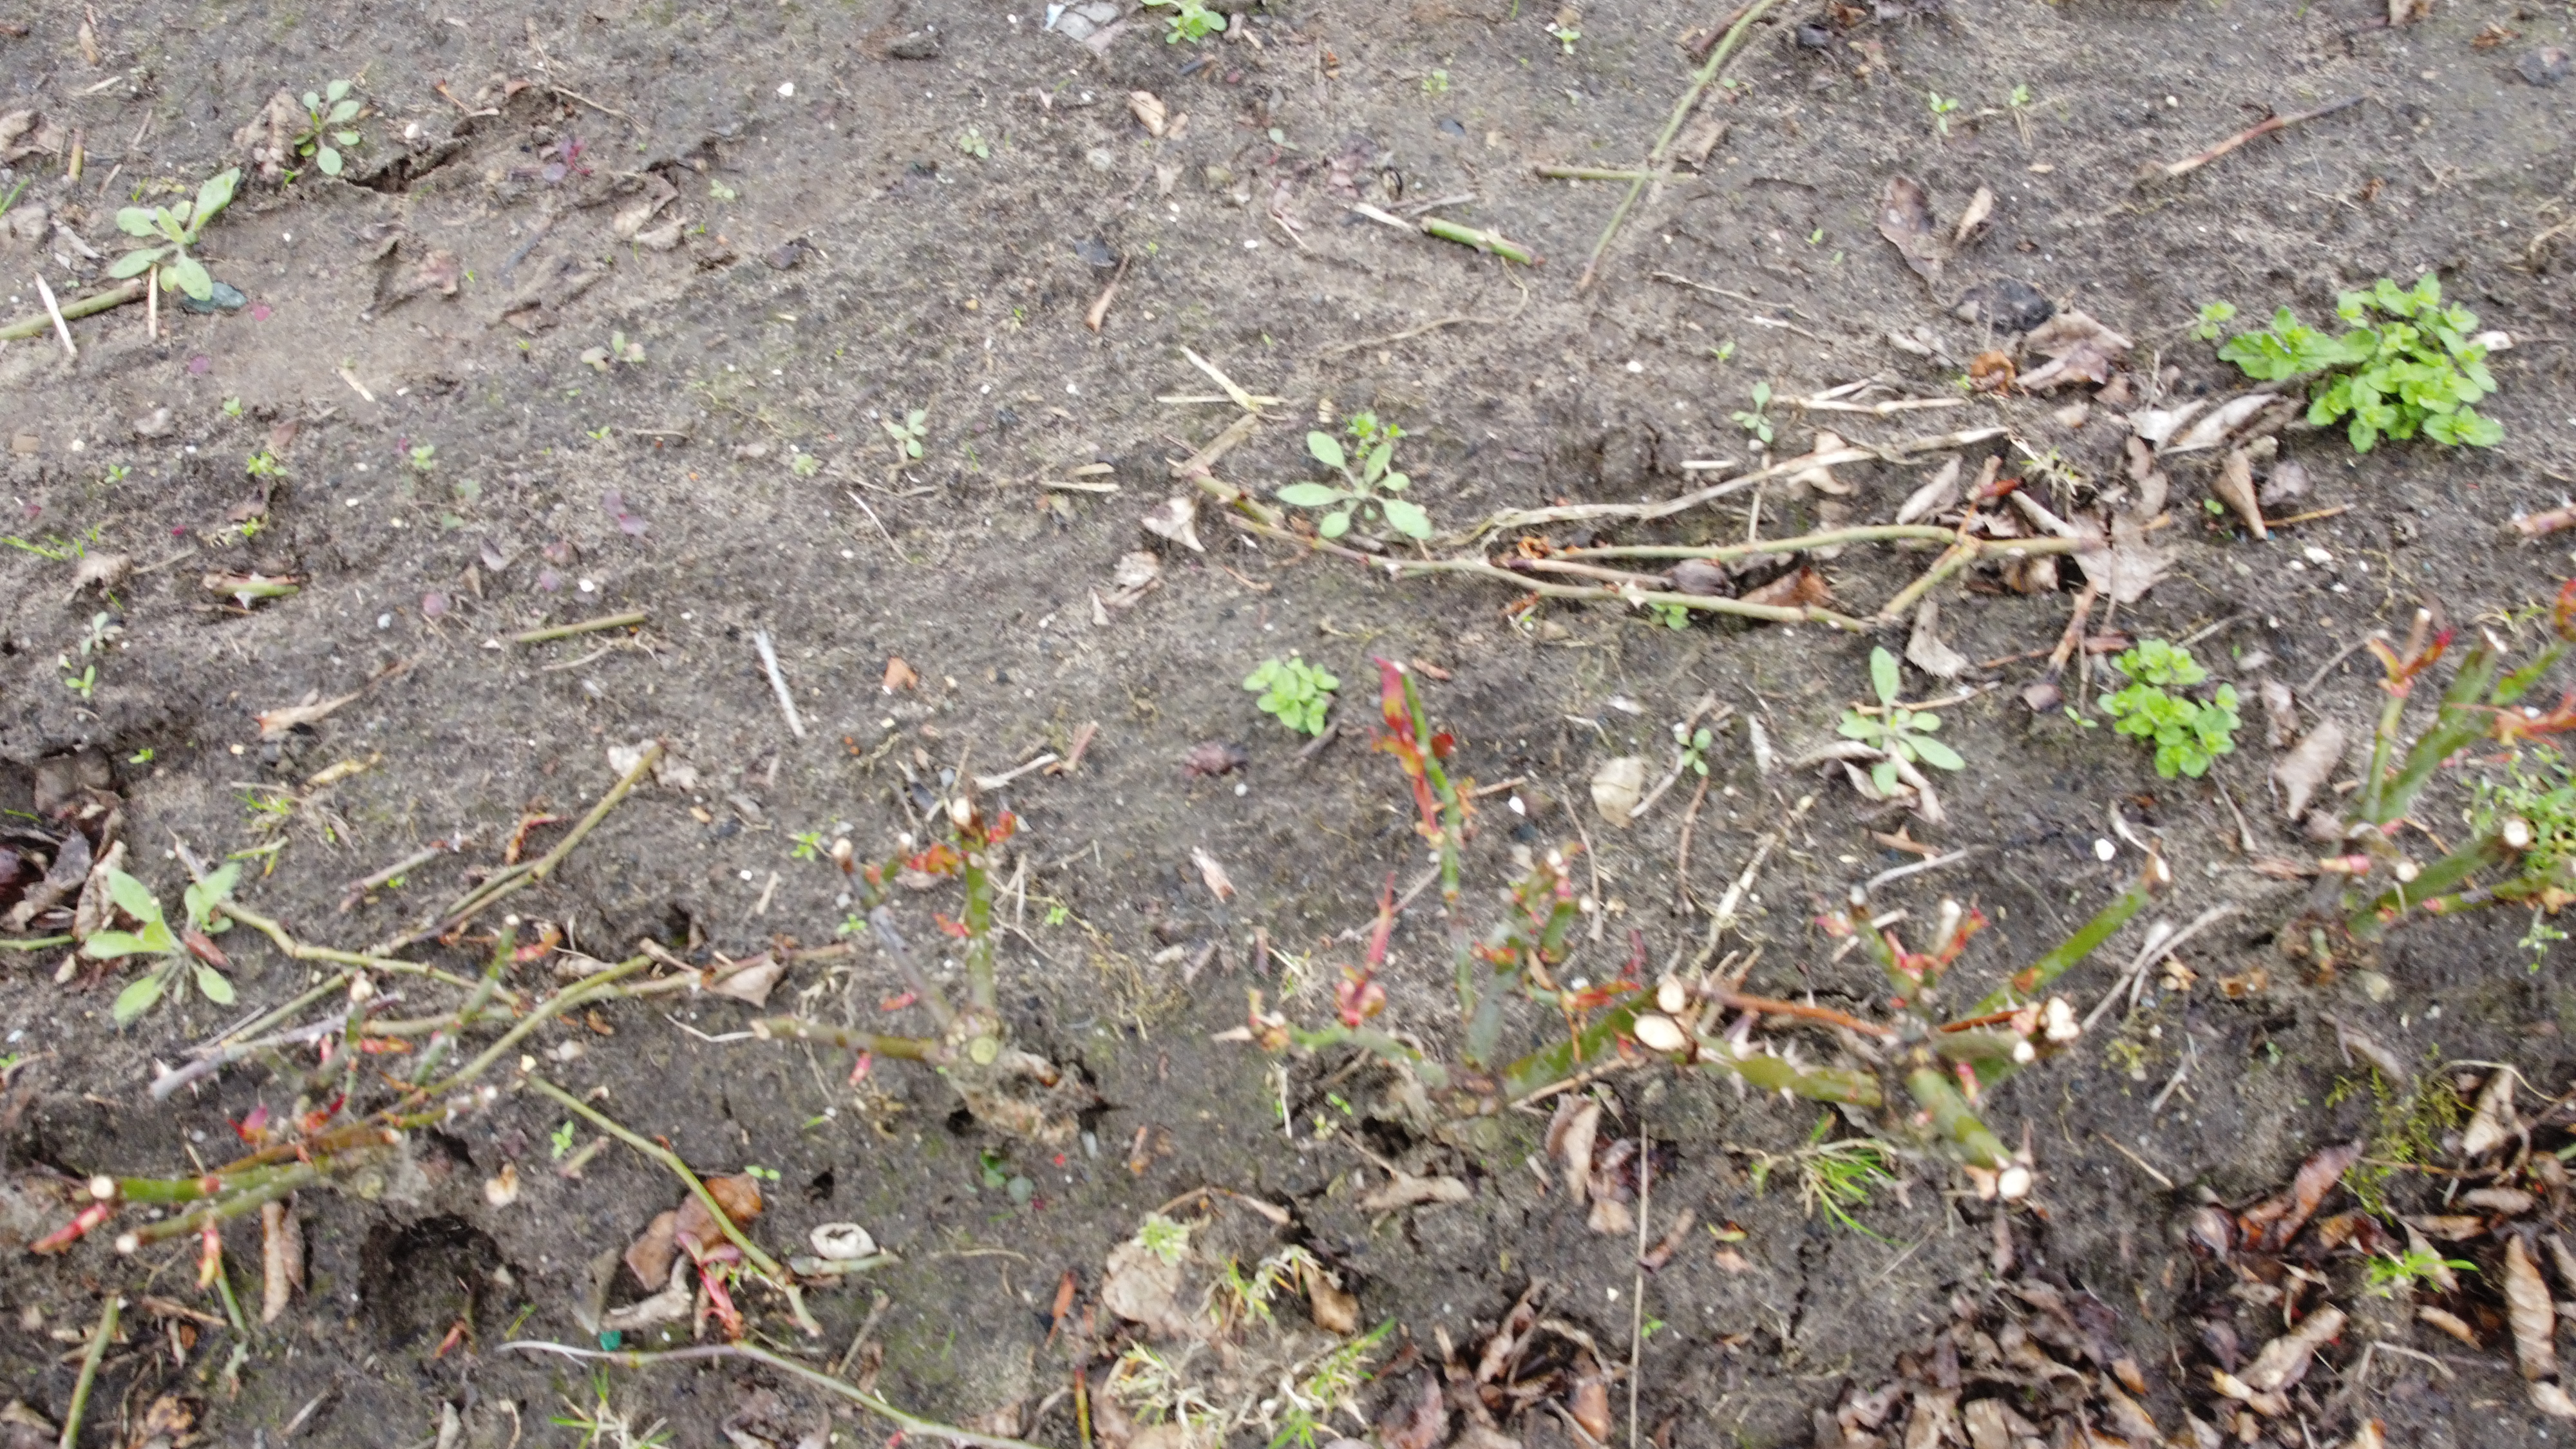rose: (1704, 888, 2148, 1200), (2288, 582, 2576, 968), (763, 798, 1086, 1141), (1283, 855, 1647, 1125), (97, 1122, 400, 1251), (1384, 671, 1445, 780), (1711, 993, 1859, 1028), (1421, 793, 1456, 858), (1260, 1030, 1277, 1040), (1350, 1001, 1364, 1012), (1253, 1021, 1265, 1030), (1267, 1024, 1277, 1030), (1449, 865, 1458, 870), (1350, 991, 1361, 994), (1451, 878, 1458, 881), (1451, 901, 1456, 904), (1431, 732, 1442, 734), (1353, 982, 1355, 982)
weed: (2224, 274, 2500, 449), (85, 872, 234, 1023), (1281, 414, 1430, 540), (2102, 640, 2236, 777), (113, 172, 237, 299), (1842, 651, 1960, 768), (1633, 718, 1711, 814), (1246, 656, 1338, 732), (299, 81, 363, 175), (184, 865, 237, 929), (1168, 0, 1223, 42), (1734, 384, 1771, 444), (885, 409, 925, 462), (78, 612, 122, 660), (2192, 303, 2235, 341), (1548, 9, 1580, 51), (1930, 92, 1959, 138), (64, 663, 97, 699), (580, 345, 621, 370), (612, 333, 642, 359), (407, 444, 435, 471), (101, 464, 129, 487), (1702, 702, 1709, 708), (1695, 709, 1700, 713), (1884, 782, 1888, 786), (1877, 777, 1879, 778), (617, 341, 619, 343)
